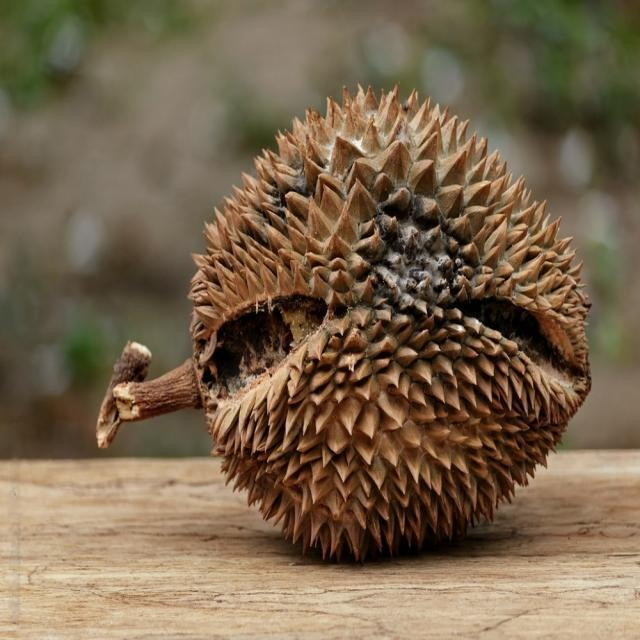defective: (188, 80, 593, 565)
